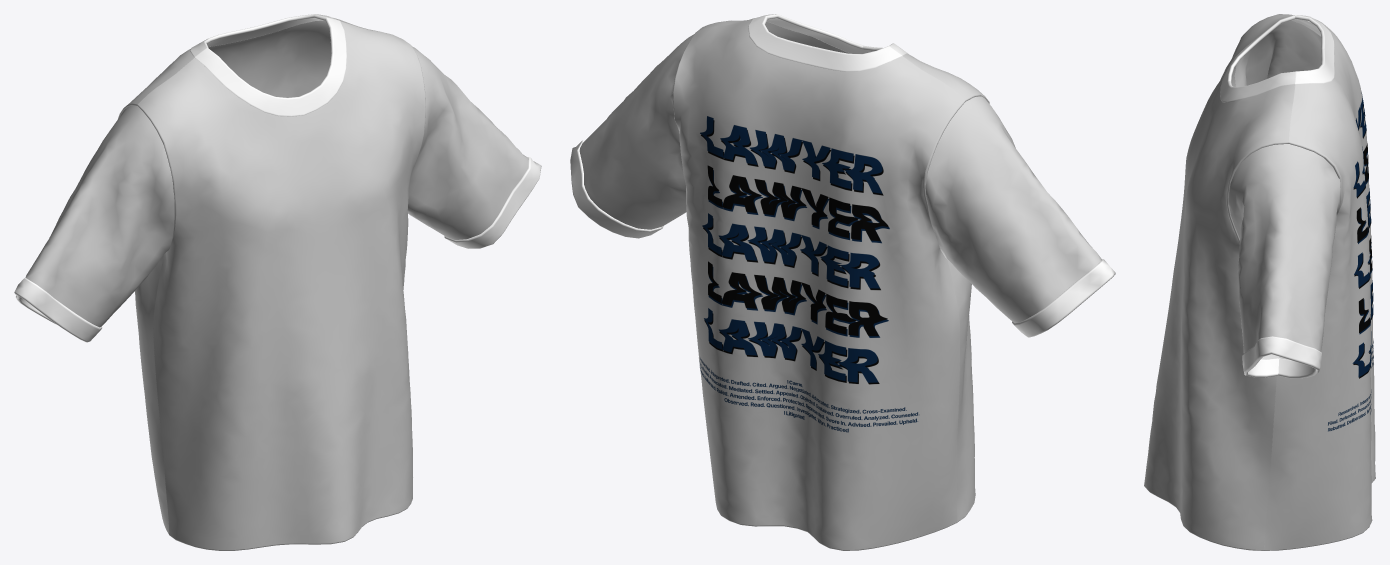
File: lawyerWavy.glb
3 views of the same model, side by side, from view 1: azimuth 30°, elevation 25°; view 2: azimuth 150°, elevation 25°; view 3: azimuth 270°, elevation 25° (orthographic). The views are drawn at different scales.
Parts seen in each view (by area): view 1: lawyer; view 2: lawyer; view 3: lawyer.
Boxes of the visible parts, x1,y1,x2,y2 form: lawyer: [14, 14, 541, 550]; lawyer: [570, 14, 1115, 550]; lawyer: [1144, 14, 1375, 550].
Size of the model in its own units: 0.8474 by 0.7174 by 0.3294.
Materials: 3 (1 with a texture image).
